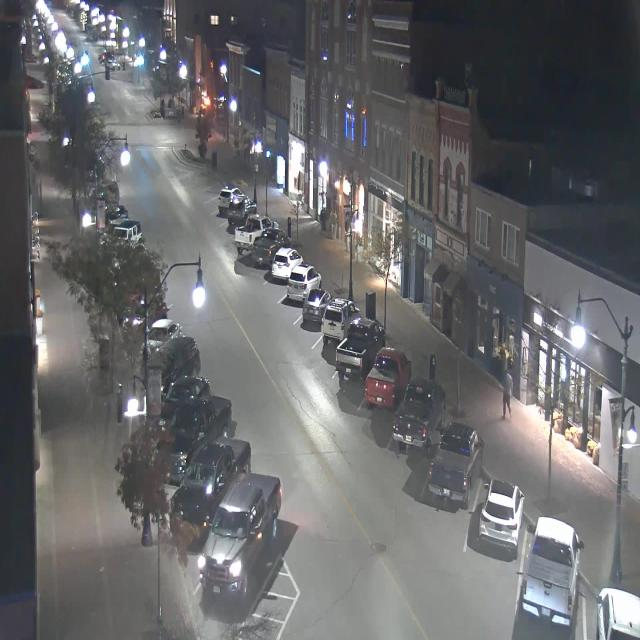occupied: (197, 472, 282, 604), (169, 436, 251, 542), (520, 515, 584, 627), (168, 389, 235, 475), (428, 420, 483, 509), (391, 376, 446, 456), (478, 476, 525, 558), (334, 315, 386, 381), (154, 329, 209, 384), (364, 346, 411, 410), (595, 586, 640, 639), (159, 371, 215, 410), (234, 212, 272, 256), (321, 299, 356, 344), (286, 262, 322, 303), (302, 286, 333, 326), (253, 230, 281, 272), (271, 247, 302, 283), (227, 194, 256, 232), (216, 183, 246, 218)
